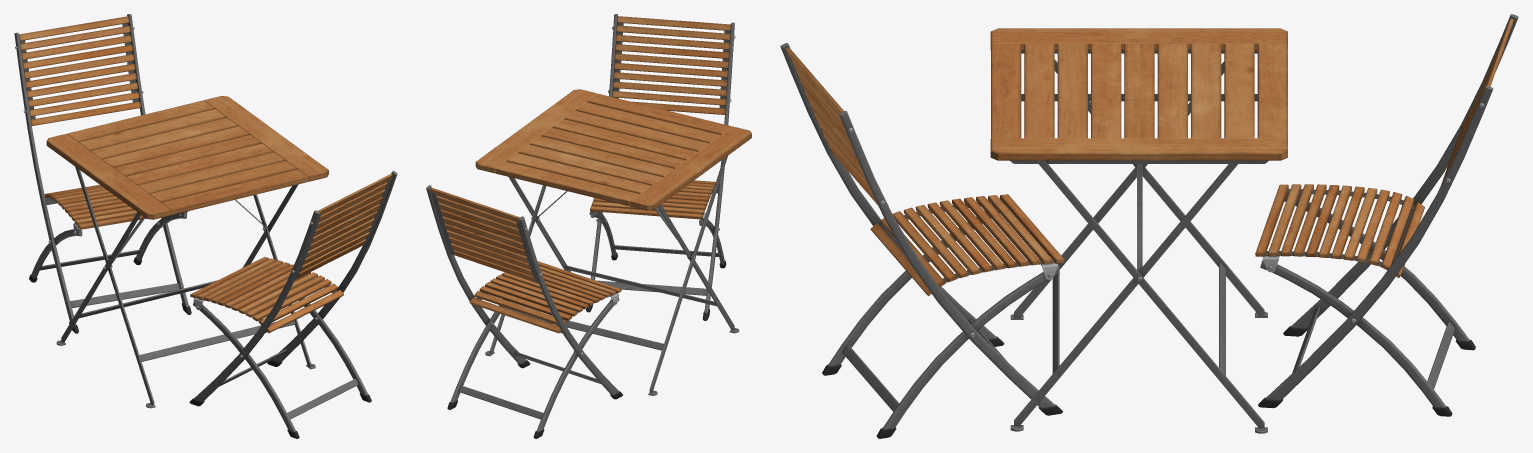
File: tuinset_bistro.gltf
3 renders of one model, left to right at view 1: azimuth 30°, elevation 25°; view 2: azimuth 150°, elevation 25°; view 3: azimuth 270°, elevation 25°, orthographic. The views are drawn at different scales.
Visible parts, largest first — view 1: outdoor_table_chair_set_01_table, outdoor_table_chair_set_01_chair_02, outdoor_table_chair_set_01_chair_01; view 2: outdoor_table_chair_set_01_table, outdoor_table_chair_set_01_chair_02, outdoor_table_chair_set_01_chair_01; view 3: outdoor_table_chair_set_01_table, outdoor_table_chair_set_01_chair_01, outdoor_table_chair_set_01_chair_02.
Part boxes in pixels (box(x1,y1,x2,y2)): outdoor_table_chair_set_01_table: box(46, 96, 328, 408); outdoor_table_chair_set_01_chair_02: box(14, 14, 191, 333); outdoor_table_chair_set_01_chair_01: box(189, 171, 397, 438); outdoor_table_chair_set_01_table: box(475, 89, 751, 395); outdoor_table_chair_set_01_chair_02: box(426, 185, 622, 438); outdoor_table_chair_set_01_chair_01: box(586, 14, 735, 320); outdoor_table_chair_set_01_table: box(990, 28, 1287, 433); outdoor_table_chair_set_01_chair_01: box(780, 43, 1064, 438); outdoor_table_chair_set_01_chair_02: box(1255, 14, 1518, 416).
Size of the model in its own units: 0.7417 by 0.8586 by 1.72.
2 materials, 2 textured.
